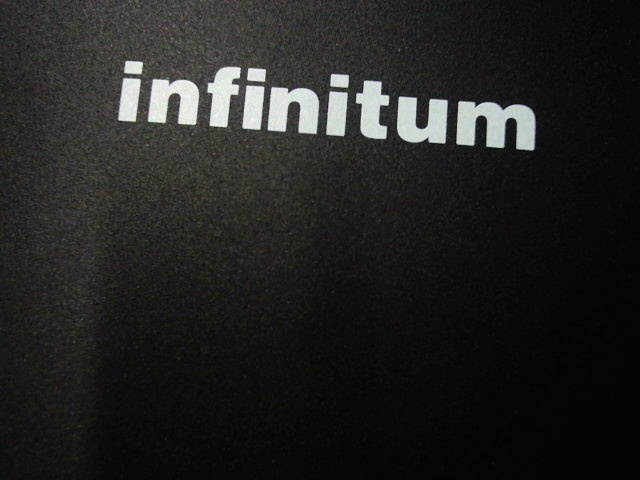BK_infinitum: (111, 47, 551, 161)
